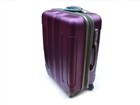suitcase: (42, 6, 101, 99)
